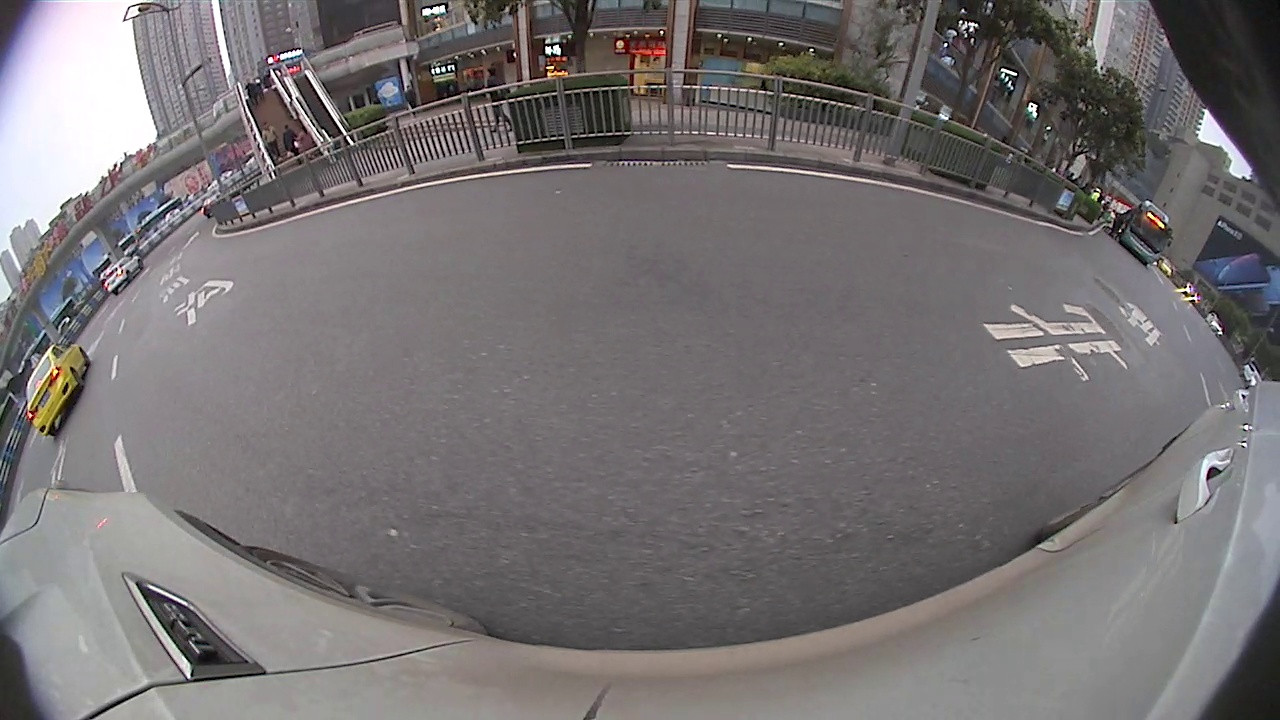bus: (1117, 203, 1170, 266)
car: (26, 343, 90, 436), (99, 254, 145, 298)
